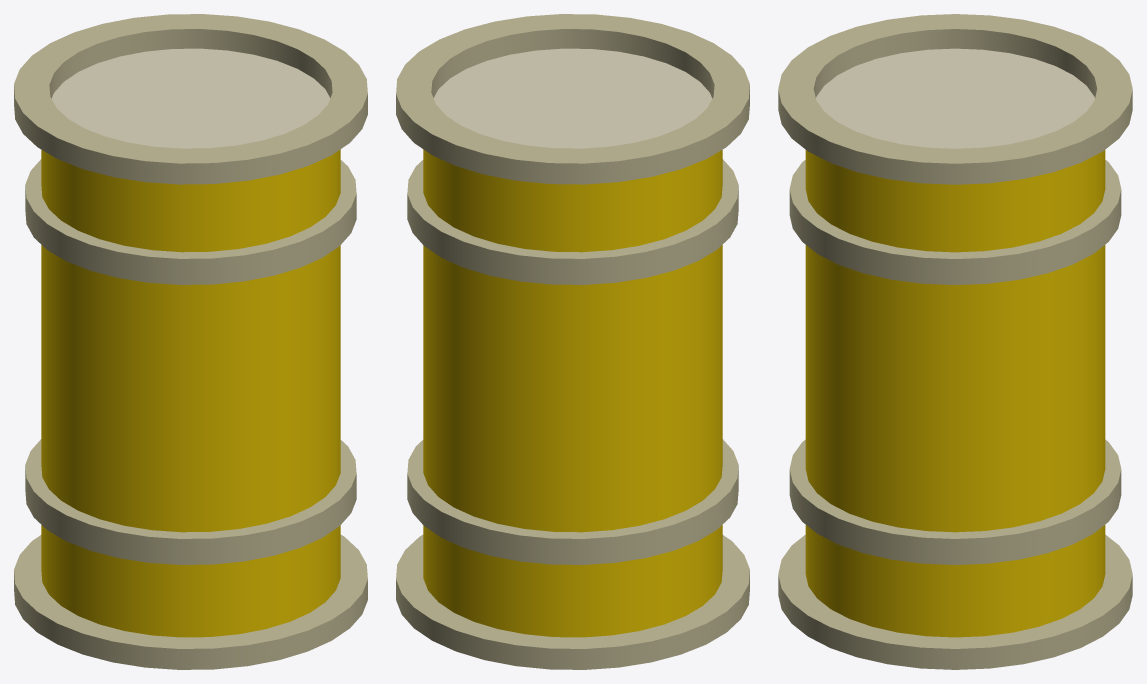
Rendered from Barrel Radiation.fbx.
The picture shows the model from 3 angles, left to right: view 1: azimuth 30°, elevation 25°; view 2: azimuth 150°, elevation 25°; view 3: azimuth 270°, elevation 25°; orthographic projection.
Parts seen in each view (by area): view 1: Barrel Radiation; view 2: Barrel Radiation; view 3: Barrel Radiation.
Boxes of the visible parts, x1=… form: Barrel Radiation: x1=14, y1=14, x2=367, y2=669; Barrel Radiation: x1=396, y1=14, x2=749, y2=669; Barrel Radiation: x1=778, y1=14, x2=1132, y2=669.
Bounding box in the file's own units: 134 × 212 × 134.
